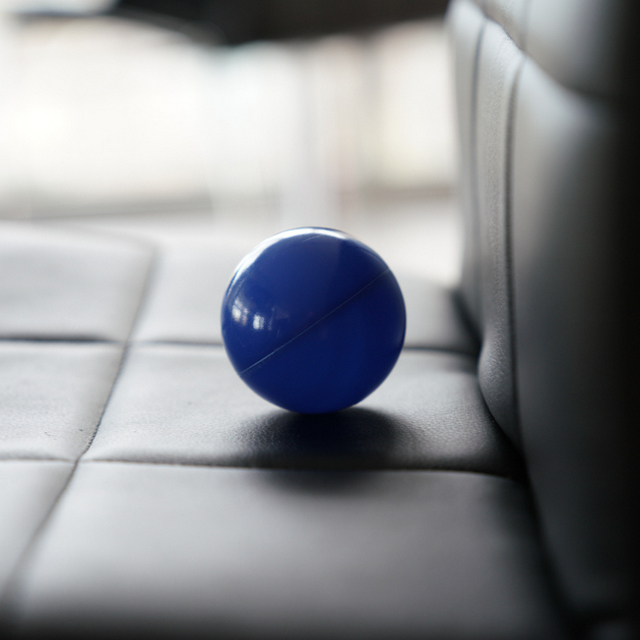Ball: (223, 227, 407, 416)
